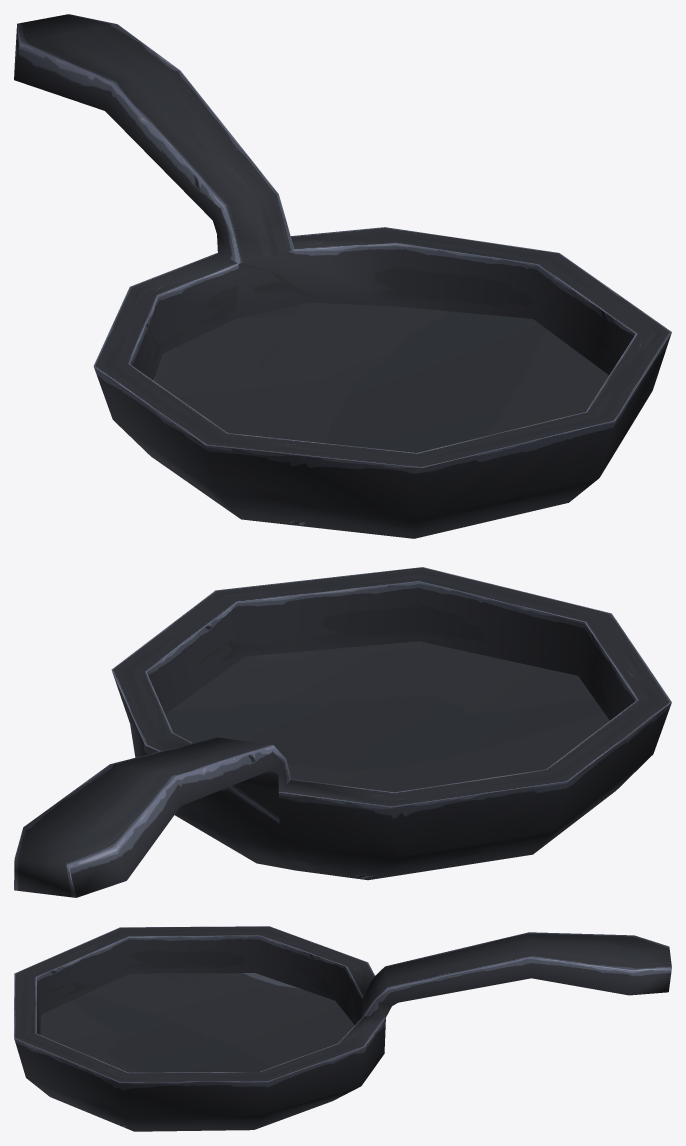
File: SM_PROP_pan_dungeon.fbx
3 views of the same model, one above another, from view 1: azimuth 30°, elevation 25°; view 2: azimuth 150°, elevation 25°; view 3: azimuth 270°, elevation 25° (orthographic). The views are drawn at different scales.
Parts seen in each view (by area): view 1: SM_PROP_pan_dungeon; view 2: SM_PROP_pan_dungeon; view 3: SM_PROP_pan_dungeon.
Part boxes in pixels (x1,y1,x2,y2): SM_PROP_pan_dungeon: (14, 14, 671, 538); SM_PROP_pan_dungeon: (14, 567, 671, 897); SM_PROP_pan_dungeon: (14, 926, 671, 1131).
Size of the model in its own units: 40.84 by 15.94 by 72.58.
